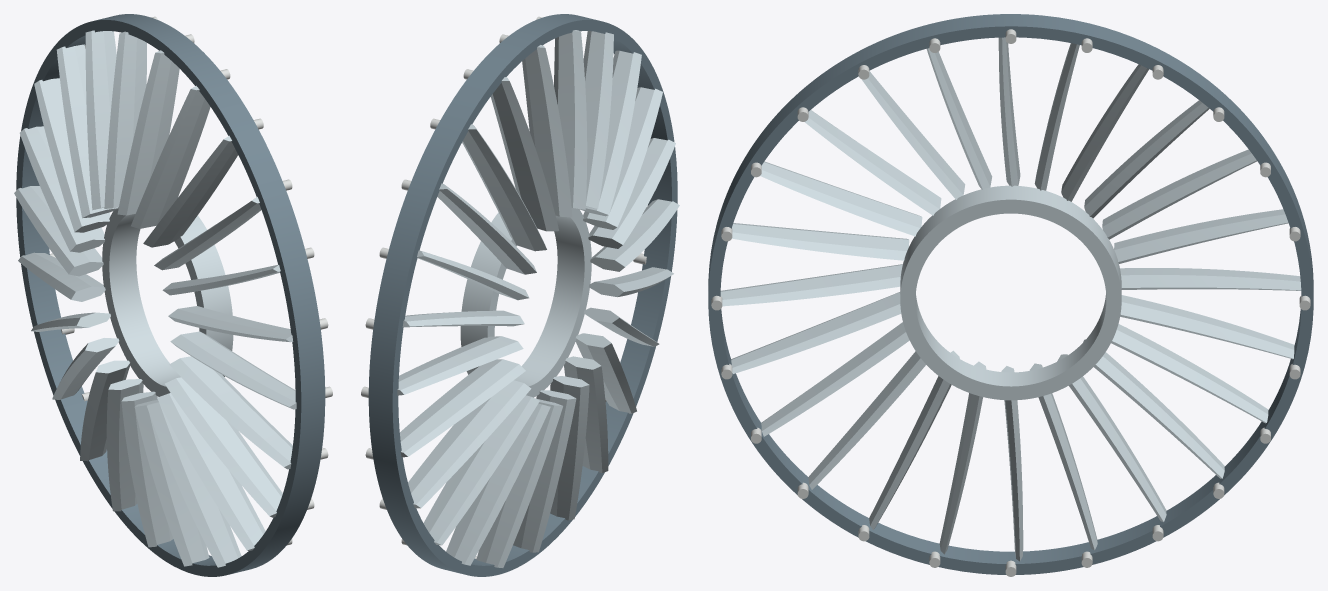
Rendered from fan-outlet-guides.glb.
The picture shows the model from 3 angles, left to right: view 1: azimuth 30°, elevation 25°; view 2: azimuth 150°, elevation 25°; view 3: azimuth 270°, elevation 25°; orthographic projection. The views are drawn at different scales.
Parts seen in each view (by area): view 1: fan-outlet-guides - blade, fan-outlet-guides - shell, fan-outlet-guides - fastener; view 2: fan-outlet-guides - blade, fan-outlet-guides - shell, fan-outlet-guides - fastener; view 3: fan-outlet-guides - blade, fan-outlet-guides - shell, fan-outlet-guides - fastener.
Boxes of the visible parts, <box> form: fan-outlet-guides - blade: <box>14,30,296,567</box>; fan-outlet-guides - shell: <box>16,14,325,576</box>; fan-outlet-guides - fastener: <box>50,16,332,545</box>; fan-outlet-guides - blade: <box>397,30,679,567</box>; fan-outlet-guides - shell: <box>368,14,677,576</box>; fan-outlet-guides - fastener: <box>361,16,646,558</box>; fan-outlet-guides - blade: <box>720,37,1301,561</box>; fan-outlet-guides - shell: <box>708,14,1313,574</box>; fan-outlet-guides - fastener: <box>711,29,1310,576</box>.
Size of the model in its own units: 0.308 by 2.1 by 2.1.
